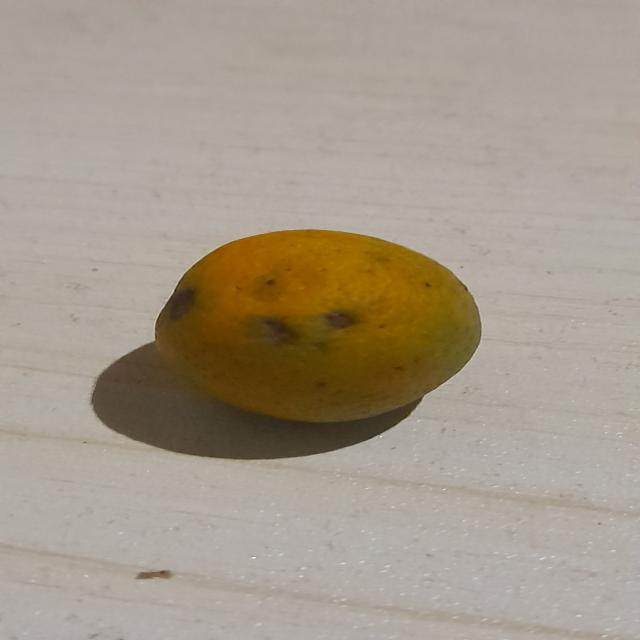black spot: (149, 225, 487, 428)
